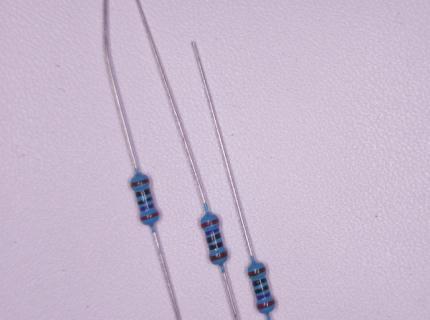Black band: (136, 188, 150, 198), (207, 233, 221, 243), (138, 196, 153, 205), (209, 241, 223, 250), (253, 278, 267, 287), (255, 285, 268, 294)
Brown band: (248, 266, 266, 277), (210, 251, 227, 261), (131, 178, 149, 187)
Red band: (201, 218, 220, 228), (140, 211, 159, 221), (256, 300, 275, 310)
Violet band: (139, 203, 155, 212), (257, 291, 271, 300), (205, 228, 219, 236)
